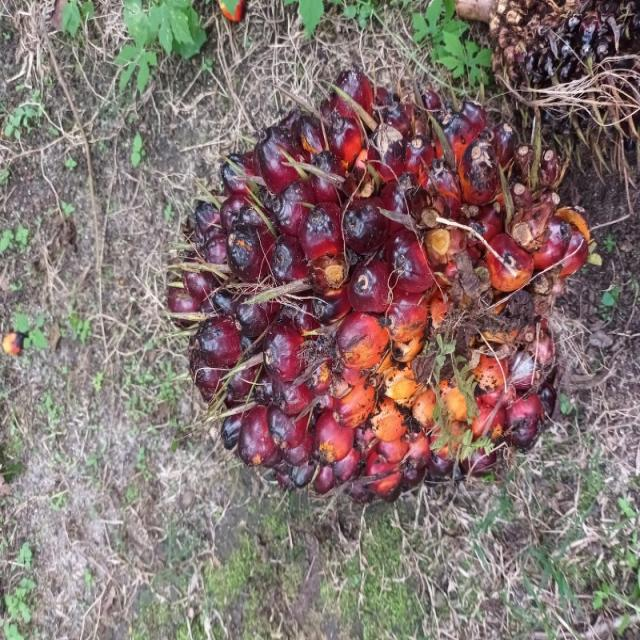fraksi 1: (48, 123, 445, 640)
